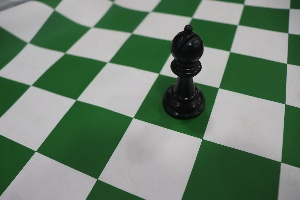black_bishop: (155, 17, 213, 129)
